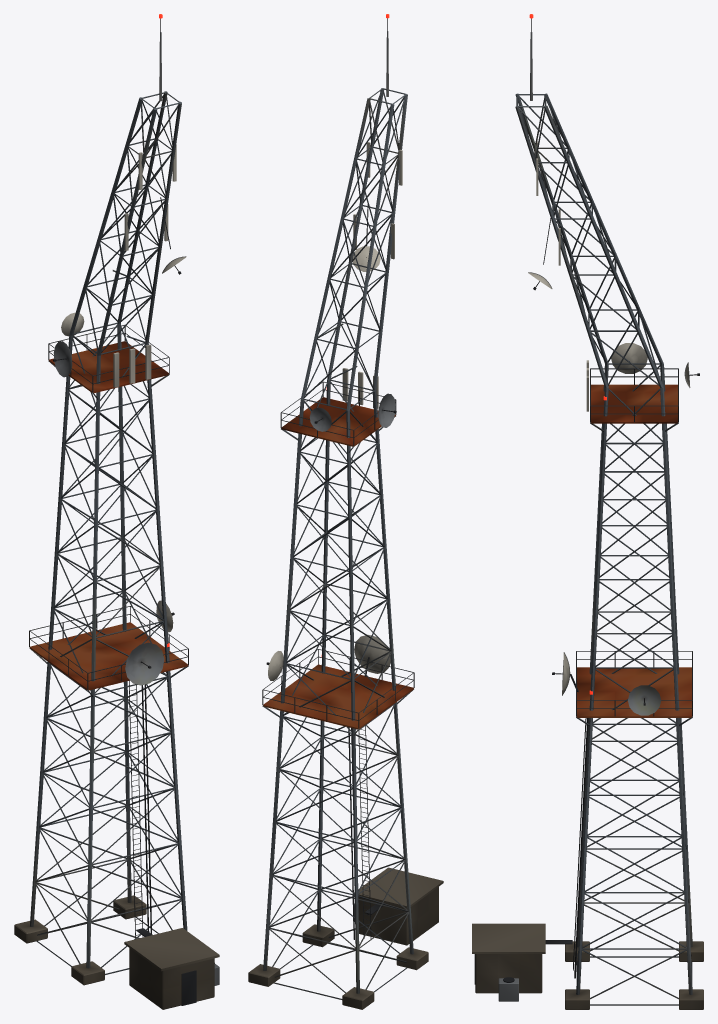
File: radio_tower.glb
The picture shows the model from 3 angles, left to right: view 1: azimuth 30°, elevation 25°; view 2: azimuth 150°, elevation 25°; view 3: azimuth 270°, elevation 25°; orthographic projection. The views are drawn at different scales.
Visible parts, largest first — view 1: steel_beam, rust, concrete_dark, metal_dark, metal_bare, paint; view 2: steel_beam, rust, concrete_dark, metal_dark, paint, metal_bare; view 3: steel_beam, rust, concrete_dark, metal_dark, paint, metal_bare.
Boxes of the visible parts, box(x1,y1,x2,y2) form: steel_beam: box(29, 91, 188, 974); rust: box(30, 341, 188, 690); concrete_dark: box(14, 895, 219, 1009); metal_dark: box(29, 18, 214, 1005); metal_bare: box(53, 32, 219, 985); paint: box(61, 145, 186, 632); steel_beam: box(262, 88, 413, 999); rust: box(263, 397, 413, 729); concrete_dark: box(248, 867, 443, 1009); metal_dark: box(262, 18, 414, 939); paint: box(268, 142, 402, 680); metal_bare: box(281, 31, 395, 921); steel_beam: box(515, 93, 692, 1005); rust: box(576, 384, 692, 717); concrete_dark: box(472, 923, 703, 1009); metal_dark: box(474, 18, 699, 984); paint: box(528, 141, 690, 694); metal_bare: box(498, 32, 689, 1001).
Size of what is drawn, in the model's own units: 8.97 by 63.69 by 13.85.
